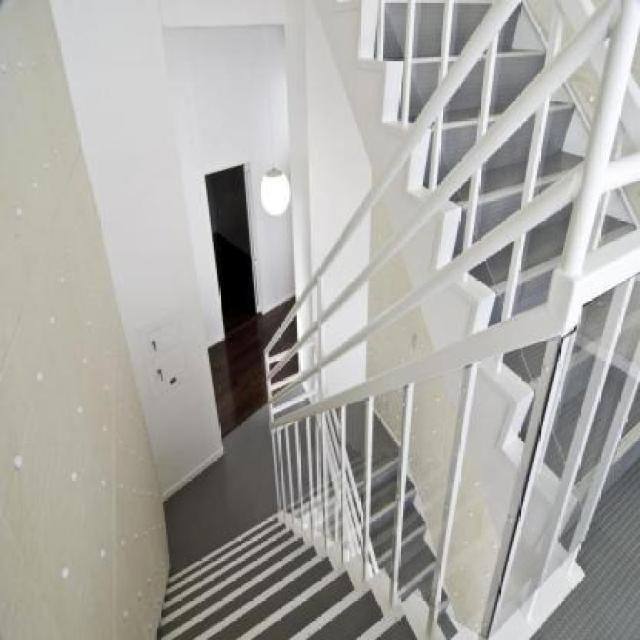stair: (372, 0, 638, 540), (154, 452, 458, 640)
